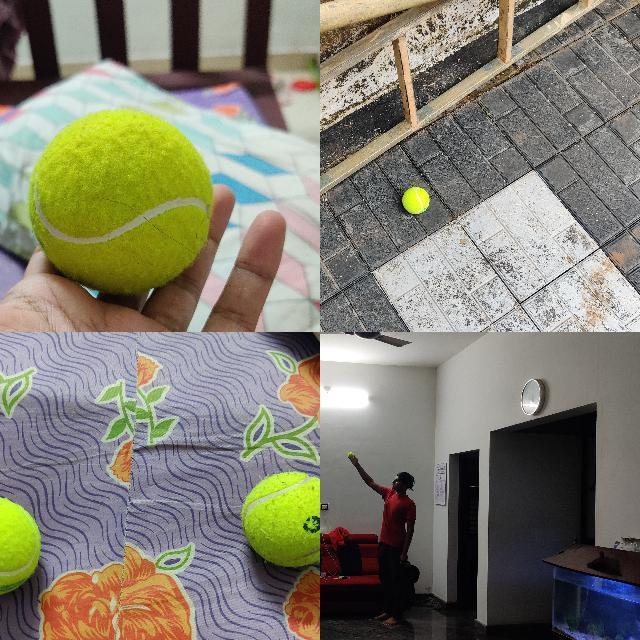tennis-ball: (28, 108, 213, 296), (240, 469, 319, 569), (0, 494, 41, 598), (401, 186, 429, 214), (347, 452, 353, 458)
